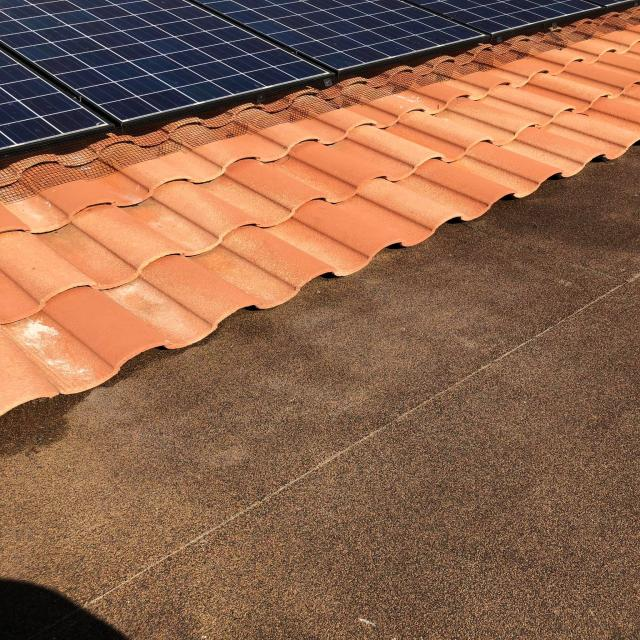clean-solar-panel: (0, 0, 635, 155)
